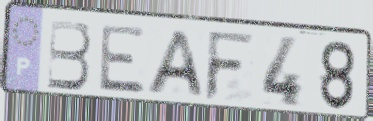4: (260, 35, 306, 109)
8: (318, 39, 357, 112)
A: (143, 29, 208, 100)
B: (46, 18, 93, 92)
E: (97, 23, 148, 97)
F: (202, 28, 257, 104)
